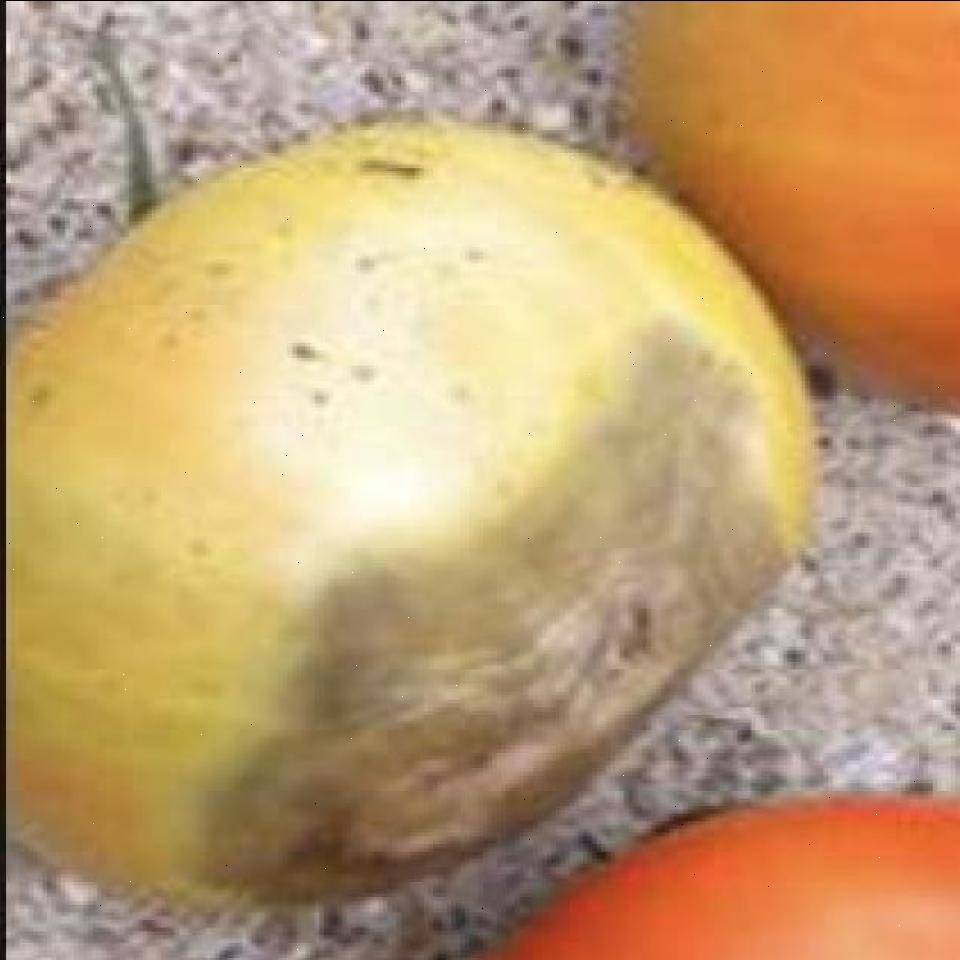Blossom_end_rot: (80, 333, 811, 921)
